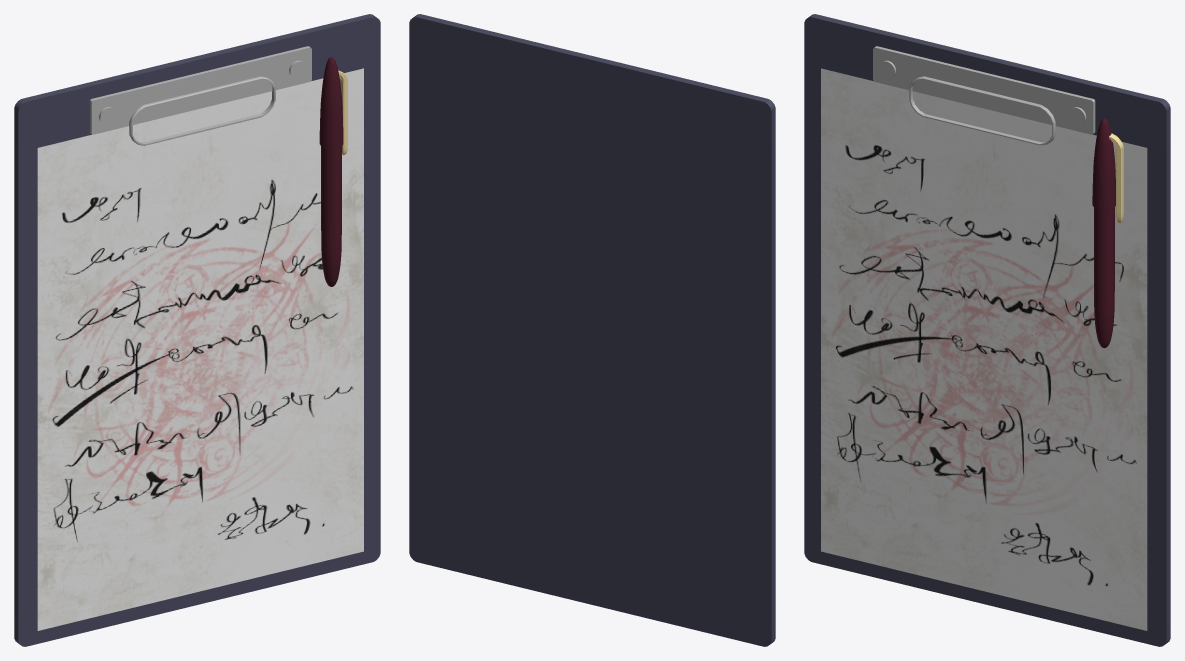
Rendered from obj_010_note.fbx.
3 renders of one model, left to right at view 1: azimuth 30°, elevation 25°; view 2: azimuth 150°, elevation 25°; view 3: azimuth 330°, elevation 25°, orthographic.
Visible parts, largest first — view 1: pPlane2, pPlane1, pCube2, pasted__polySurface1, pasted__polySurface2, polySurface2; view 2: pPlane1; view 3: pPlane2, pPlane1, pCube2, pasted__polySurface1, pasted__polySurface2, polySurface2, pasted__pCube1.
Part boxes in pixels (x1,y1,x2,y2): pPlane2: [37, 68, 363, 630]; pPlane1: [14, 14, 380, 646]; pCube2: [89, 46, 311, 134]; pasted__polySurface1: [321, 146, 341, 286]; pasted__polySurface2: [319, 57, 343, 148]; polySurface2: [129, 76, 275, 145]; pPlane1: [409, 14, 775, 646]; pPlane2: [821, 68, 1147, 630]; pPlane1: [804, 14, 1170, 646]; pCube2: [873, 46, 1095, 134]; pasted__polySurface1: [1094, 207, 1114, 348]; pasted__polySurface2: [1092, 118, 1115, 209]; polySurface2: [909, 76, 1055, 145]; pasted__pCube1: [1109, 133, 1123, 222].
Bounding box in the file's own units: 1.11 × 1.6 × 0.0884.
5 materials, 2 textured.
